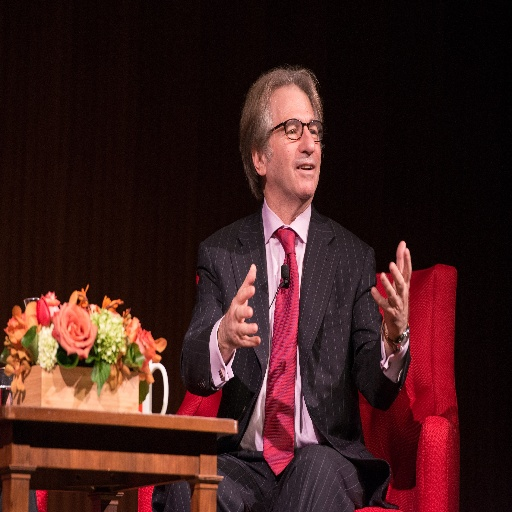hand: (378, 251, 426, 389), (227, 263, 263, 350)
